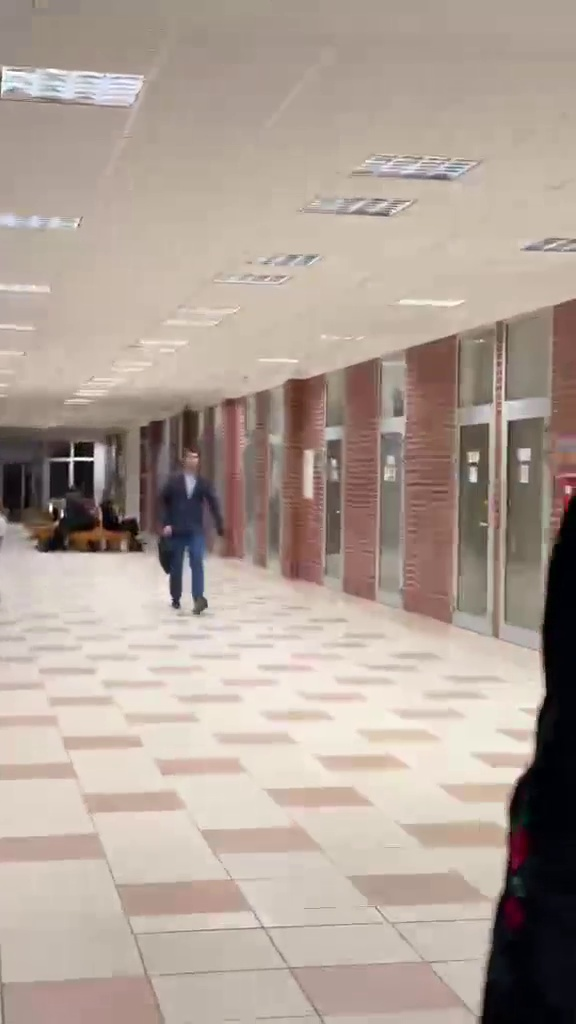no vest: (155, 450, 225, 615)
